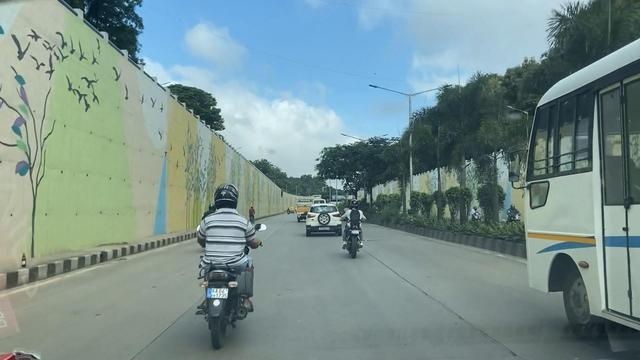LMV: (200, 183, 262, 335), (343, 197, 365, 262), (305, 202, 340, 239)
